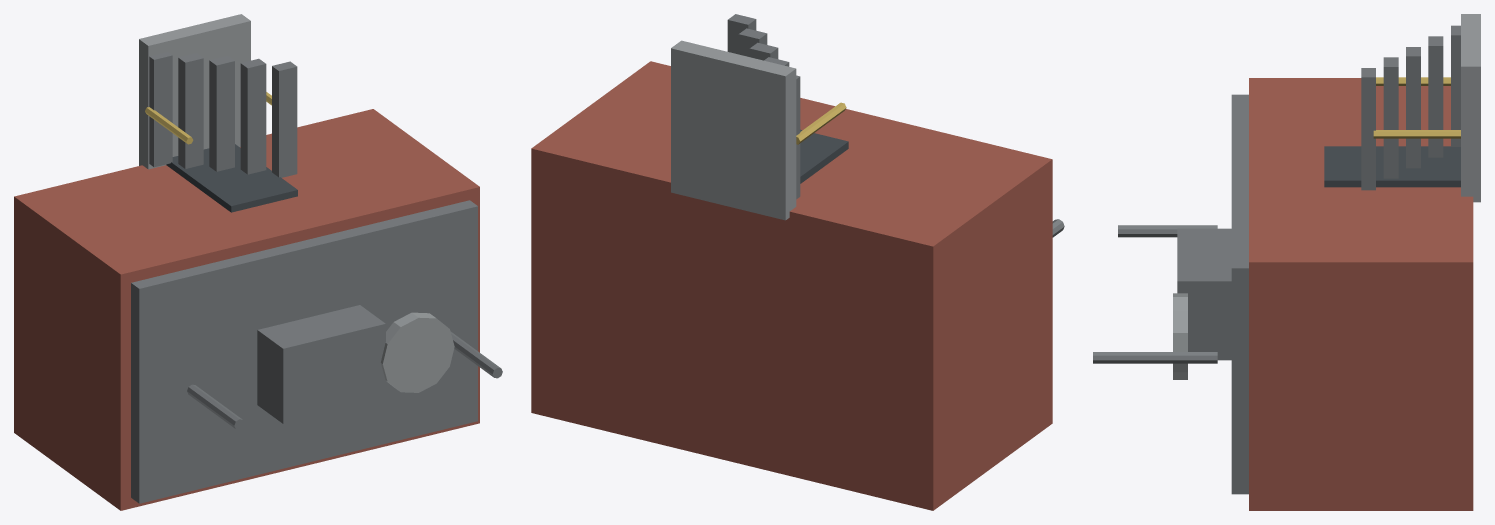
File: research_station.glb
The picture shows the model from 3 angles, left to right: view 1: azimuth 30°, elevation 25°; view 2: azimuth 150°, elevation 25°; view 3: azimuth 270°, elevation 25°; orthographic projection. The views are drawn at different scales.
Parts seen in each view (by area): view 1: research_station_0, research_station_1, research_station_2, research_station_10, research_station_9, research_station_6, research_station_14, research_station_15, research_station_13, research_station_12, research_station_11, research_station_8 (+1 smaller); view 2: research_station_0, research_station_10, research_station_6, research_station_15; view 3: research_station_0, research_station_1, research_station_2, research_station_6, research_station_10, research_station_15, research_station_12, research_station_14, research_station_13, research_station_7, research_station_9, research_station_11 (+2 smaller).
Part boxes in pixels (box(x1,y1,x2,y2)): research_station_0: box(14, 109, 479, 510); research_station_1: box(131, 200, 477, 503); research_station_2: box(257, 305, 385, 423); research_station_10: box(139, 14, 250, 169); research_station_9: box(380, 312, 454, 392); research_station_6: box(166, 144, 297, 212); research_station_14: box(240, 58, 266, 174); research_station_15: box(272, 61, 297, 177); research_station_13: box(209, 56, 234, 171); research_station_12: box(178, 53, 203, 168); research_station_11: box(149, 52, 172, 167); research_station_8: box(187, 384, 244, 429); research_station_0: box(531, 61, 1052, 510); research_station_10: box(671, 40, 796, 220); research_station_6: box(800, 129, 848, 183); research_station_15: box(727, 14, 756, 54); research_station_0: box(1249, 78, 1473, 510); research_station_1: box(1231, 94, 1248, 494); research_station_2: box(1177, 228, 1231, 360); research_station_6: box(1324, 146, 1460, 187); research_station_10: box(1461, 14, 1480, 202); research_station_15: box(1361, 68, 1375, 190); research_station_12: box(1428, 36, 1443, 157); research_station_14: box(1383, 57, 1398, 178); research_station_13: box(1406, 47, 1420, 168); research_station_7: box(1093, 352, 1217, 363); research_station_9: box(1173, 293, 1187, 379); research_station_11: box(1451, 25, 1460, 146).
Bounding box in the file's own units: 3.5 × 3.4 × 3.11.
